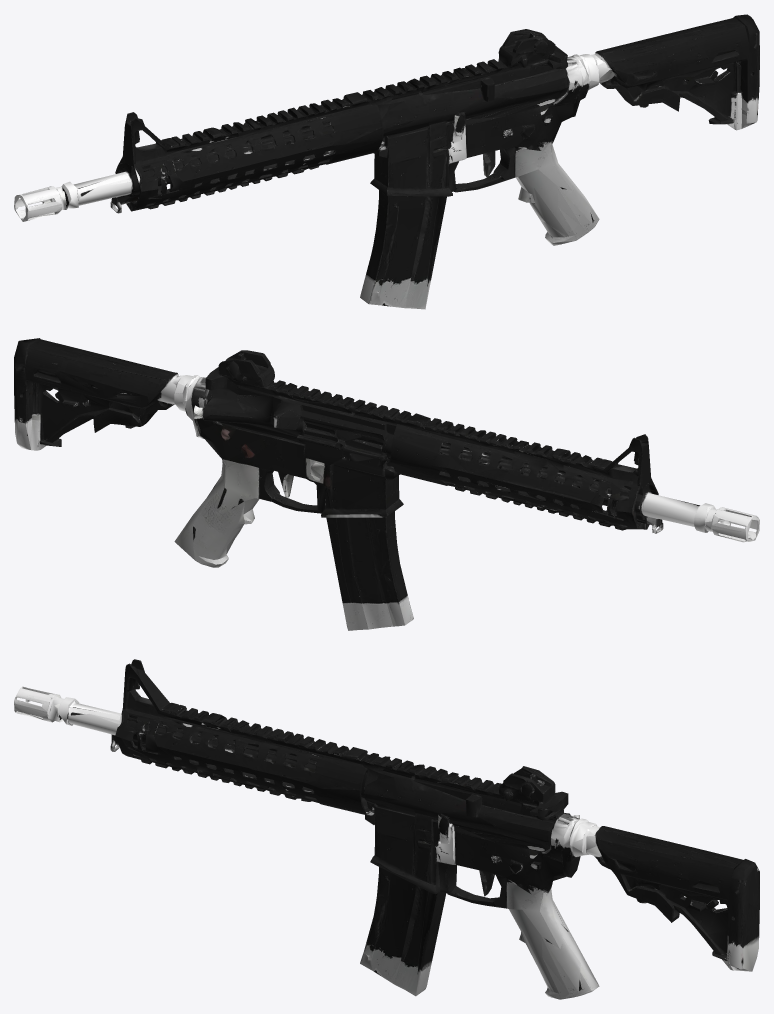
File: rifle_m4.glb
3 renders of one model, top to bottom at view 1: azimuth 30°, elevation 25°; view 2: azimuth 150°, elevation 25°; view 3: azimuth 330°, elevation 25°, orthographic.
Size of the model in its own units: 1.9 by 0.646 by 0.1527.
Materials: 1 (1 with a texture image).
